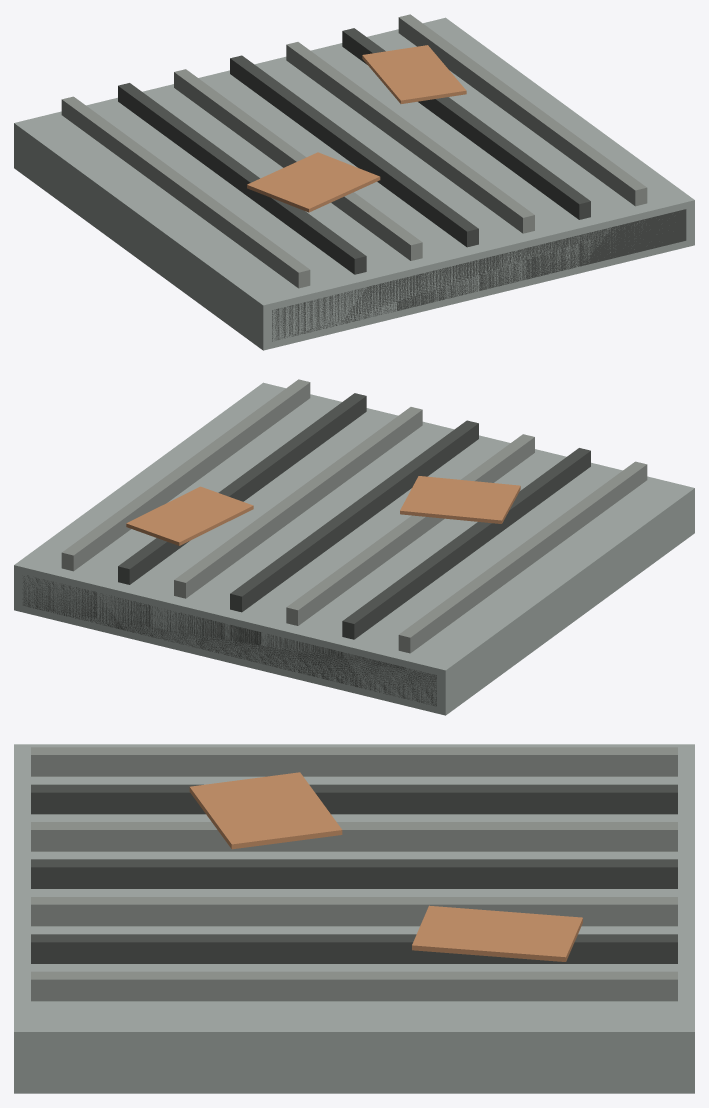
The model's file is mod_roof_metal.glb.
The picture shows the model from 3 angles, top to bottom: view 1: azimuth 30°, elevation 25°; view 2: azimuth 150°, elevation 25°; view 3: azimuth 270°, elevation 25°; orthographic projection. The views are drawn at different scales.
Parts seen in each view (by area): view 1: module_metal_roof_slab_core_2m, metal_roof_back_lip, metal_roof_corrugated_rib_0, metal_roof_corrugated_rib_4, metal_roof_corrugated_rib_3, metal_roof_corrugated_rib_6, metal_roof_corrugated_rib_1, metal_roof_corrugated_rib_2, metal_roof_corrugated_rib_5, metal_roof_rust_patch_a, metal_roof_rust_patch_b; view 2: module_metal_roof_slab_core_2m, metal_roof_front_lip, metal_roof_corrugated_rib_0, metal_roof_corrugated_rib_4, metal_roof_corrugated_rib_3, metal_roof_corrugated_rib_6, metal_roof_corrugated_rib_1, metal_roof_corrugated_rib_2, metal_roof_corrugated_rib_5, metal_roof_rust_patch_a, metal_roof_rust_patch_b; view 3: module_metal_roof_slab_core_2m, metal_roof_corrugated_rib_6, metal_roof_corrugated_rib_3, metal_roof_corrugated_rib_0, metal_roof_corrugated_rib_4, metal_roof_corrugated_rib_2, metal_roof_corrugated_rib_1, metal_roof_corrugated_rib_5, metal_roof_rust_patch_a, metal_roof_rust_patch_b.
Part boxes in pixels (box(x1,y1,x2,y2)): module_metal_roof_slab_core_2m: box(14, 17, 694, 350); metal_roof_back_lip: box(272, 209, 686, 341); metal_roof_corrugated_rib_0: box(61, 96, 310, 288); metal_roof_corrugated_rib_4: box(286, 42, 534, 233); metal_roof_corrugated_rib_3: box(230, 55, 478, 247); metal_roof_corrugated_rib_6: box(398, 14, 647, 206); metal_roof_corrugated_rib_1: box(118, 83, 366, 274); metal_roof_corrugated_rib_2: box(174, 69, 422, 260); metal_roof_corrugated_rib_5: box(342, 28, 590, 219); metal_roof_rust_patch_a: box(247, 152, 380, 212); metal_roof_rust_patch_b: box(362, 45, 466, 103); module_metal_roof_slab_core_2m: box(14, 382, 694, 715); metal_roof_front_lip: box(22, 575, 436, 706); metal_roof_corrugated_rib_0: box(398, 461, 647, 653); metal_roof_corrugated_rib_4: box(174, 407, 422, 598); metal_roof_corrugated_rib_3: box(230, 420, 478, 612); metal_roof_corrugated_rib_6: box(61, 379, 310, 571); metal_roof_corrugated_rib_1: box(342, 448, 590, 639); metal_roof_corrugated_rib_2: box(286, 434, 534, 625); metal_roof_corrugated_rib_5: box(118, 393, 366, 584); metal_roof_rust_patch_a: box(400, 476, 520, 523); metal_roof_rust_patch_b: box(126, 486, 253, 545); module_metal_roof_slab_core_2m: box(14, 744, 694, 1093); metal_roof_corrugated_rib_6: box(31, 971, 677, 1001); metal_roof_corrugated_rib_3: box(31, 859, 677, 888); metal_roof_corrugated_rib_0: box(31, 747, 677, 776); metal_roof_corrugated_rib_4: box(31, 897, 677, 926); metal_roof_corrugated_rib_2: box(31, 822, 677, 851); metal_roof_corrugated_rib_1: box(31, 784, 677, 814); metal_roof_corrugated_rib_5: box(31, 934, 677, 963); metal_roof_rust_patch_a: box(189, 772, 342, 849); metal_roof_rust_patch_b: box(412, 905, 582, 961).
Size of the model in its own units: 2 by 0.302 by 2.
